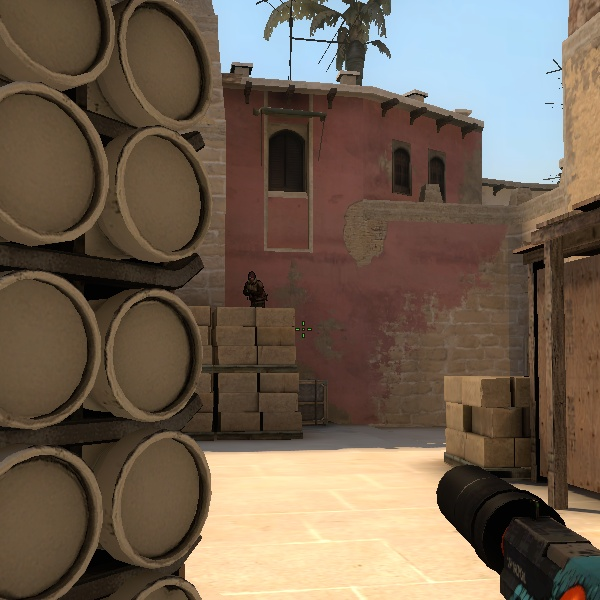t_body: (234, 267, 271, 304)
t_head: (245, 269, 261, 285)
